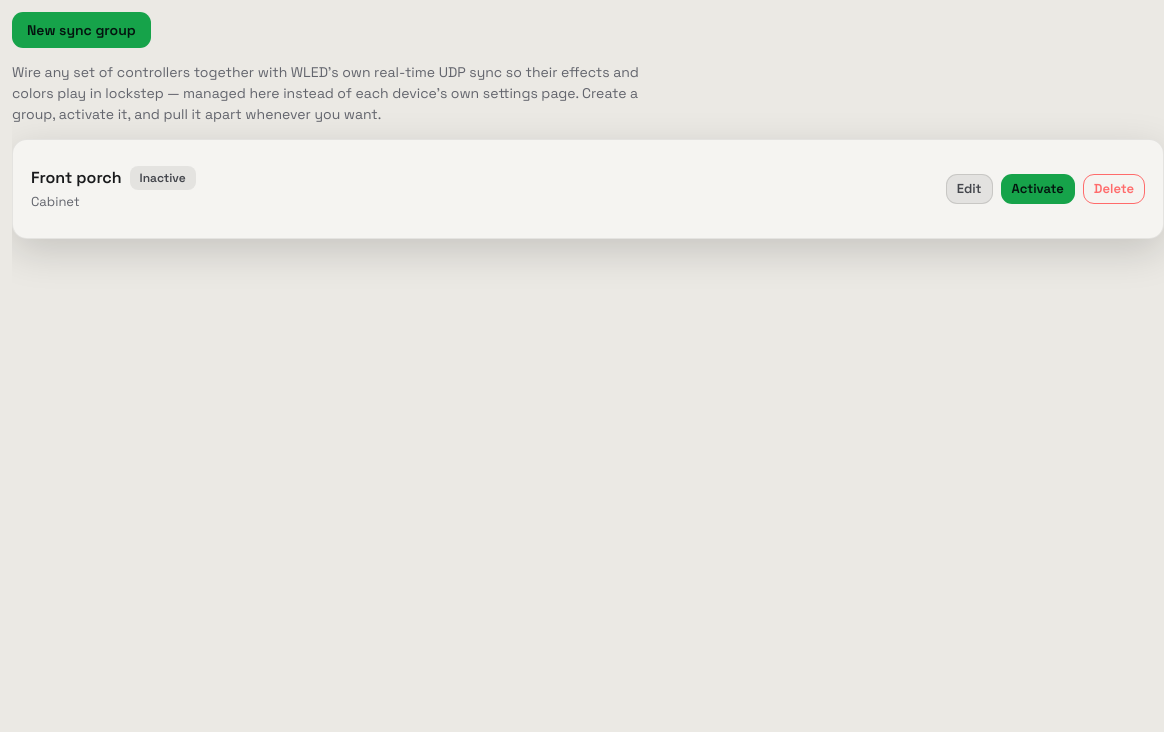
Test: SyncSection › activates a group and shows it as Active
The image size is (1164, 732).
Expected: the text "Front porch" is shown, [31, 166, 122, 190]
Click the button with aria-label "Activate Front porch" at (1038, 189), box [1001, 174, 1075, 204]
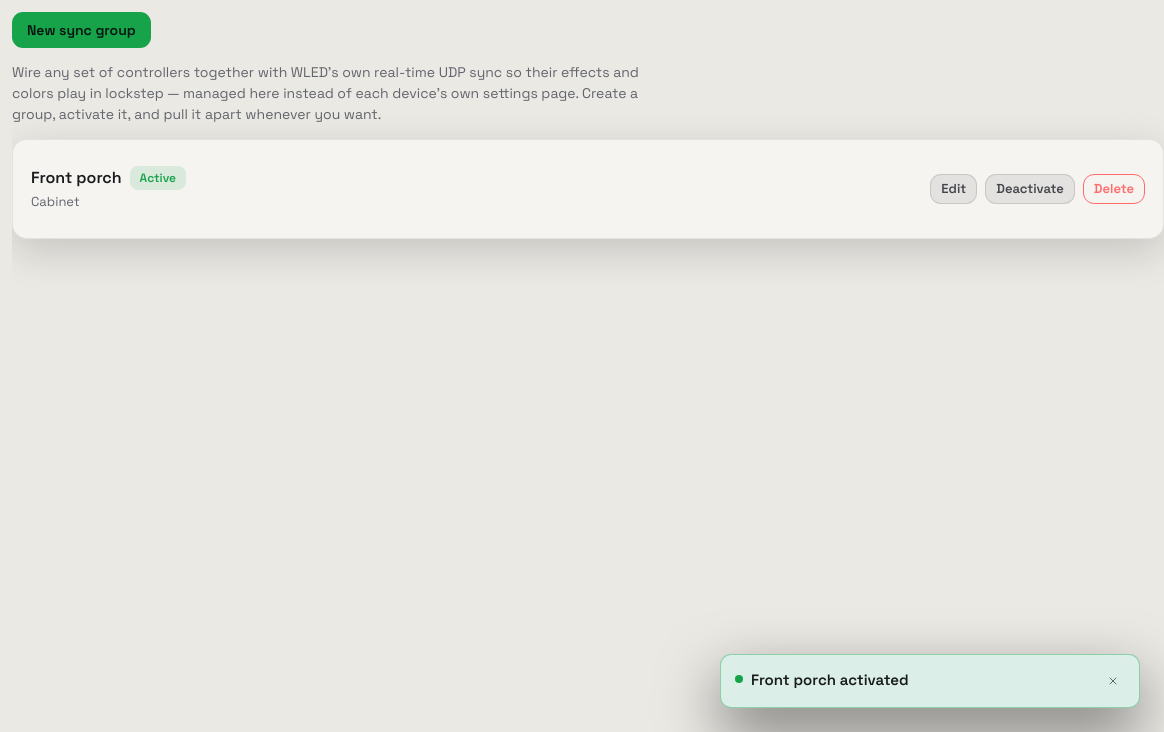
Expected: the text "Active" is shown, [130, 166, 186, 190]
Now the button with aria-label "Deactivate Front porch" is shown, box [985, 174, 1075, 204]
